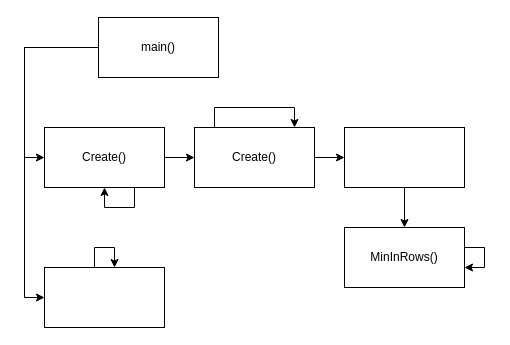
Some shapes in this 510 by 345 pixel diagram are drawn without their labels. The shapes that lost their labels are listed below. From the top down, each one's centre as x and y in pixels, then its label:
At pixel 404 157: "SumMinOddRows()".
At pixel 104 297: "Print()".
